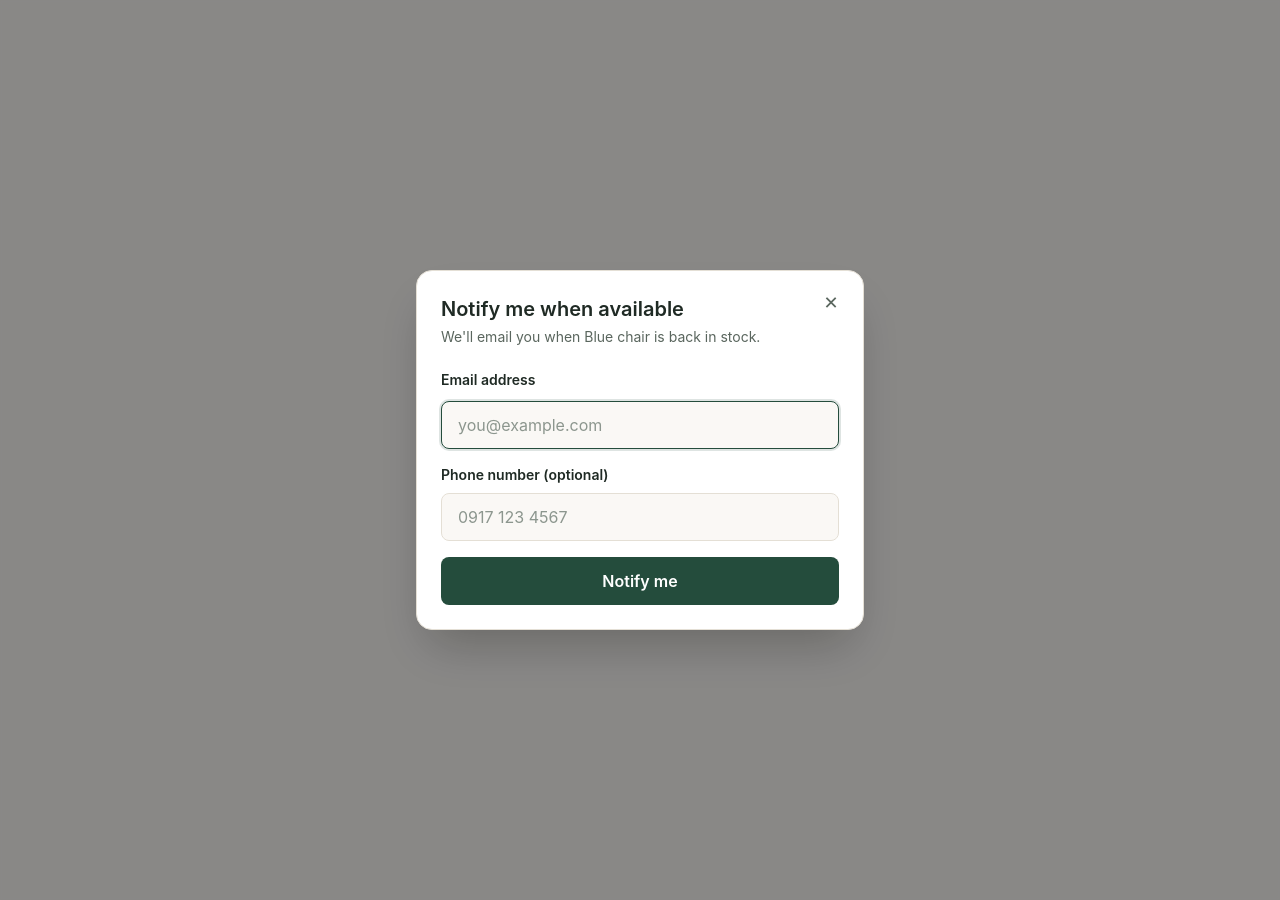
Test: BackInStockDialog › refuses a phone number that could never be dialled
This screenshot has width=1280, height=900.
Type "shopper@example.com" into the field labelled "Email address" at (640, 425), box [441, 401, 839, 449]
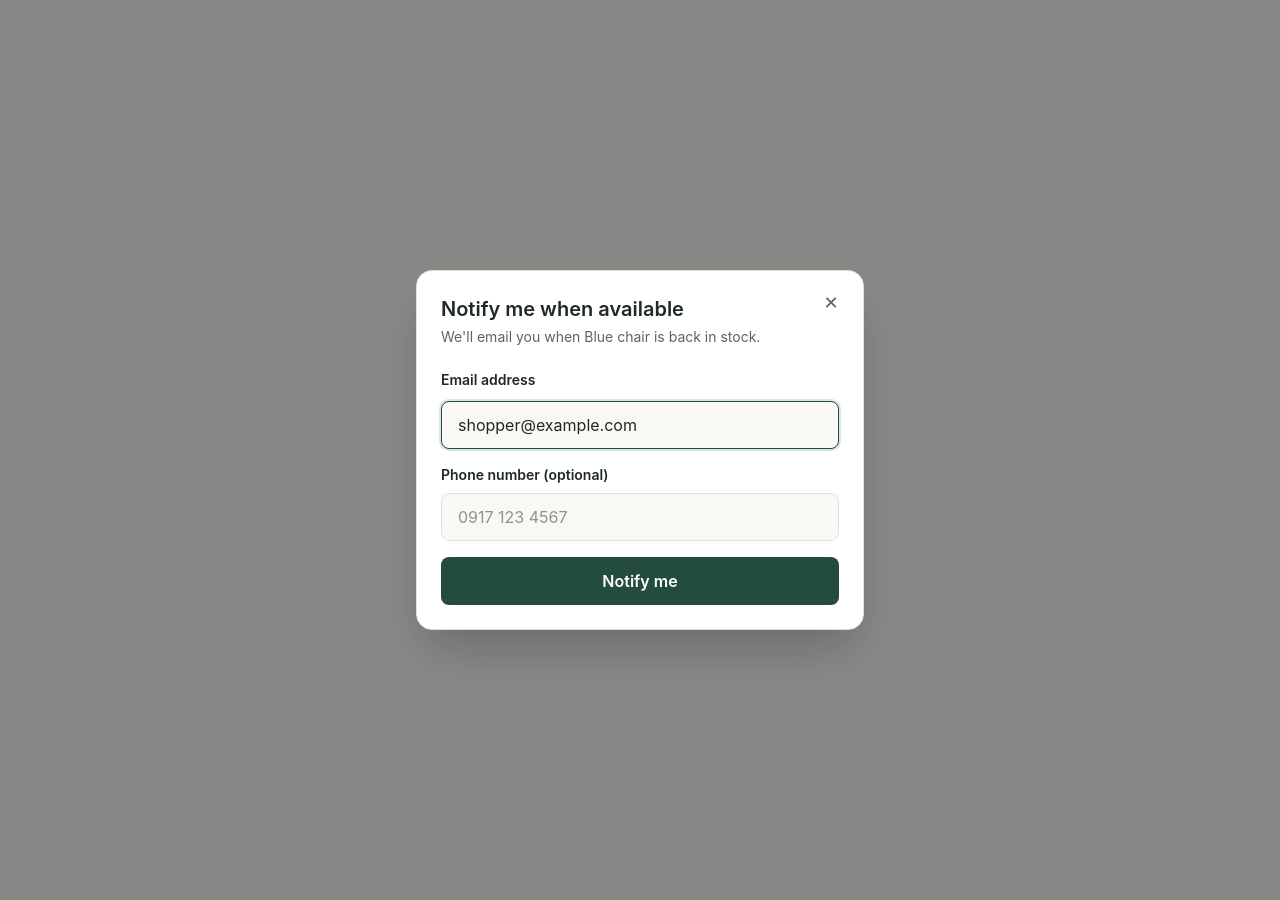
Type "123" into the field labelled "Phone number (optional)" at (640, 517), box [441, 493, 839, 541]
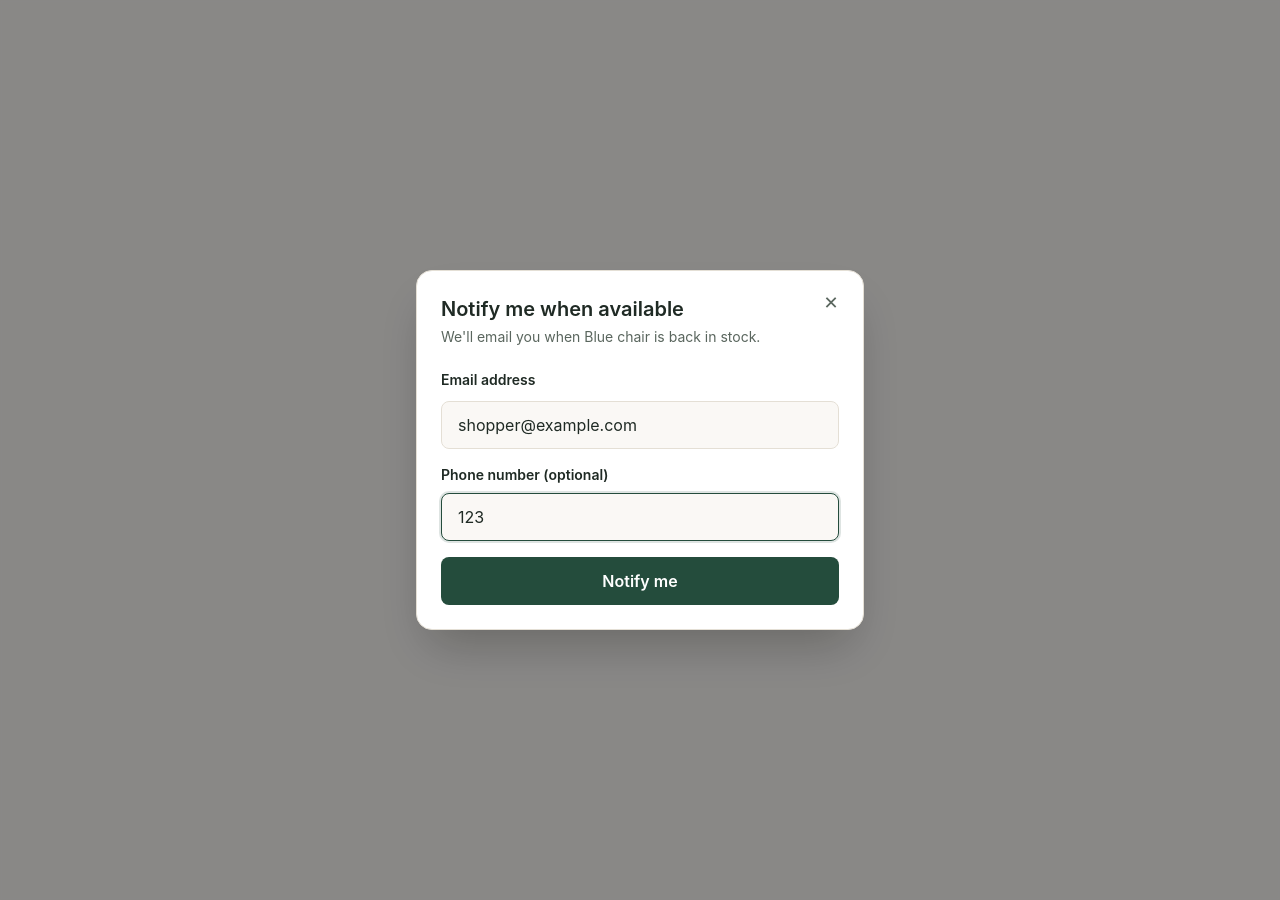
Click the button "Notify me" at (640, 581), box [441, 557, 839, 605]
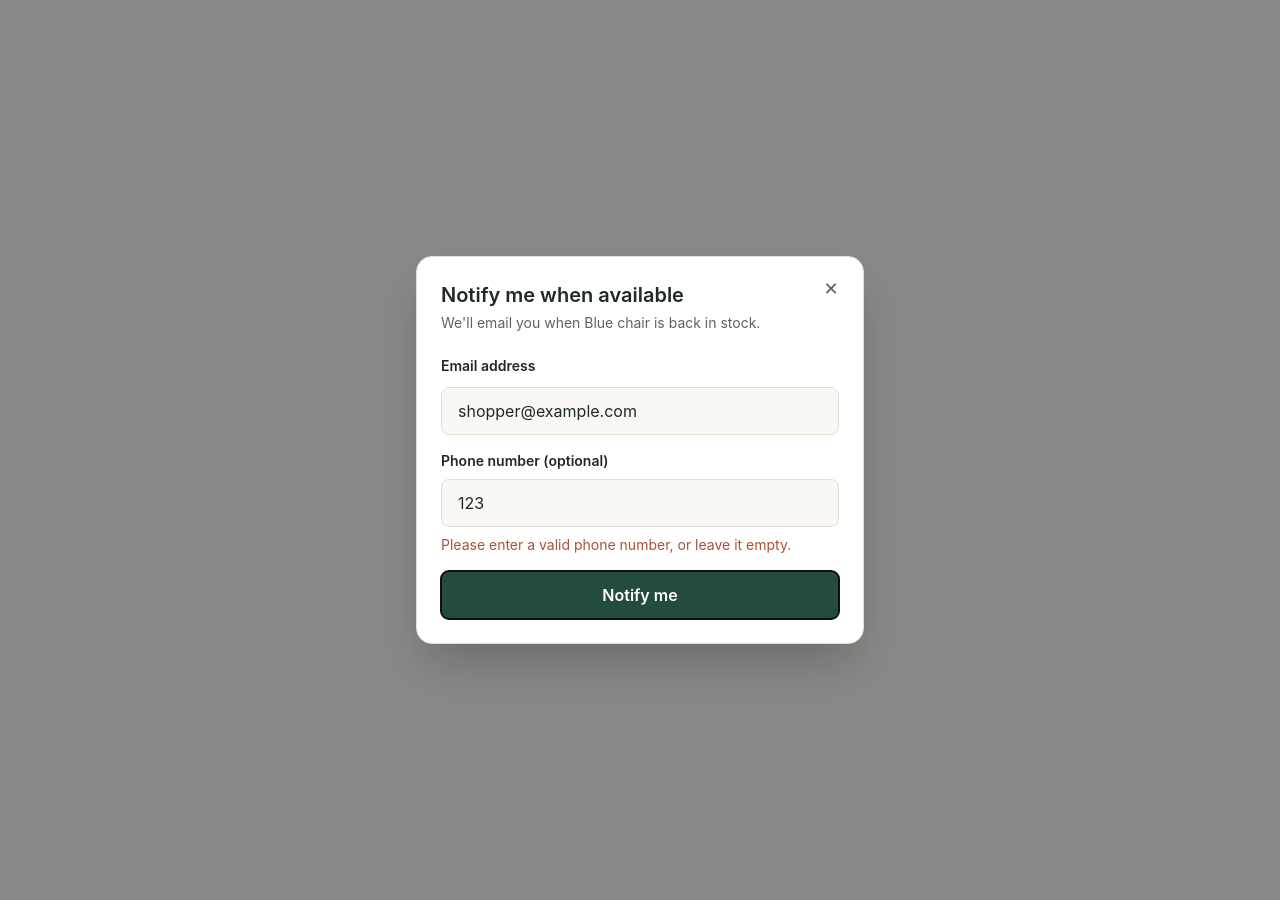
Result: the message reads "Please enter a valid phone number, or leave it empty." at [441, 536, 791, 553]
